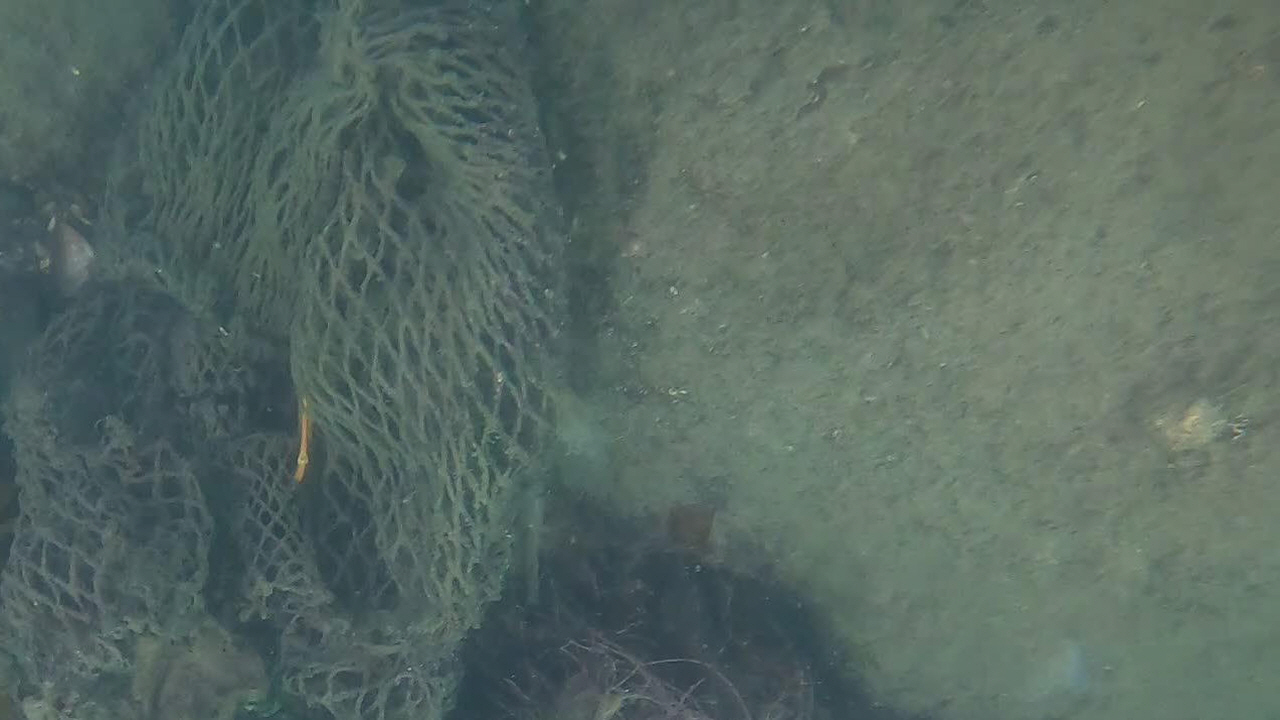fish net: (0, 0, 566, 717)
